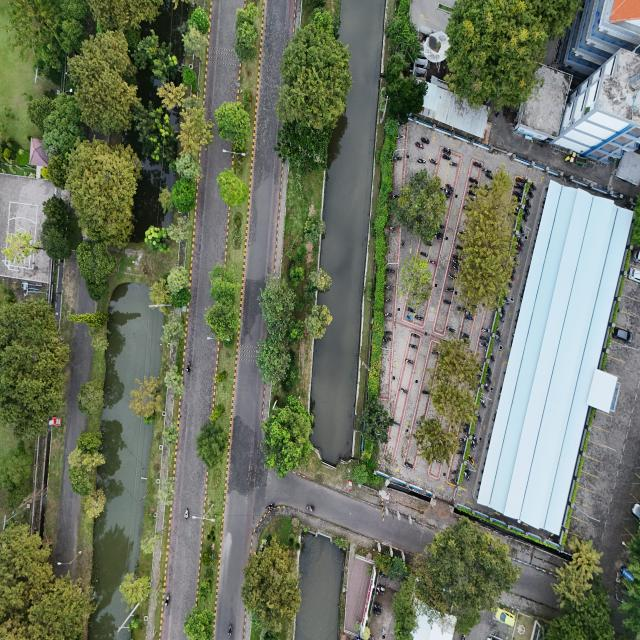Tree: (196, 421, 229, 470), (217, 169, 250, 205), (3, 234, 41, 262), (77, 379, 105, 417), (120, 573, 150, 608), (171, 179, 197, 211), (182, 26, 207, 56), (66, 311, 109, 328), (164, 364, 186, 396), (175, 154, 201, 179), (77, 430, 102, 456), (188, 6, 210, 32), (167, 266, 189, 292), (171, 288, 191, 307), (197, 581, 213, 604), (162, 424, 179, 445), (289, 264, 305, 286), (181, 66, 197, 86), (209, 403, 225, 422), (354, 465, 368, 485), (214, 371, 227, 382), (294, 539, 302, 550), (287, 534, 294, 546)
